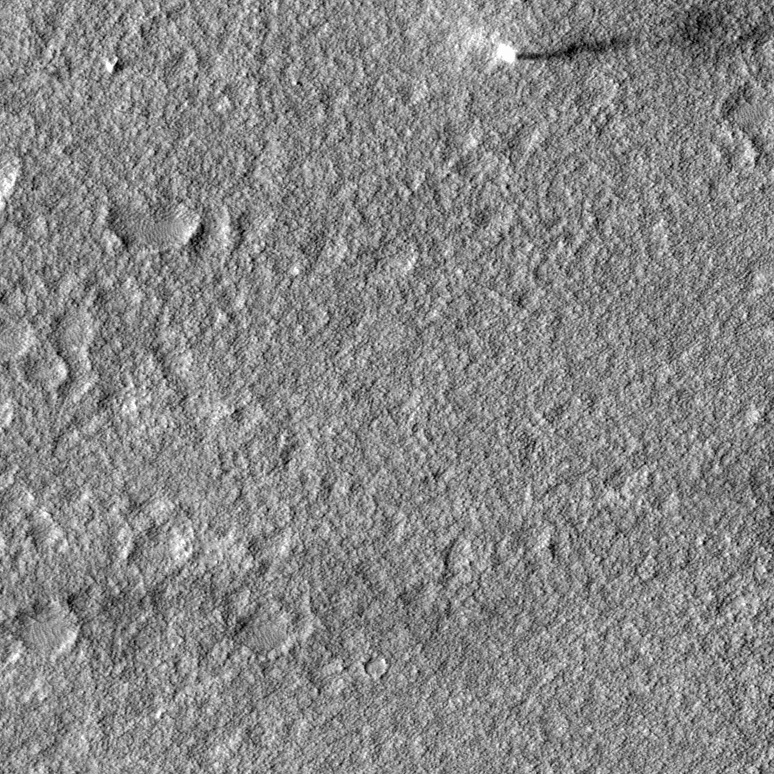dust_devil: (493, 29, 639, 68)
